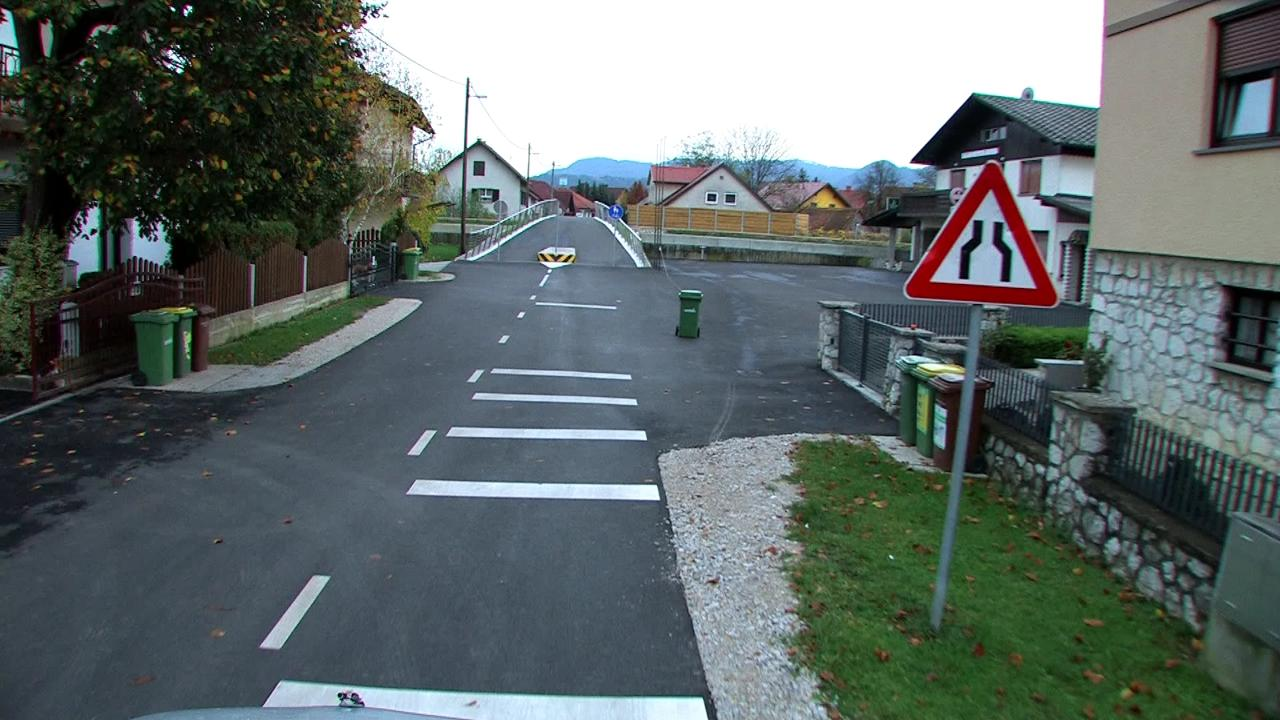Round: (609, 204, 623, 221)
Triangle: (905, 162, 1061, 310)
